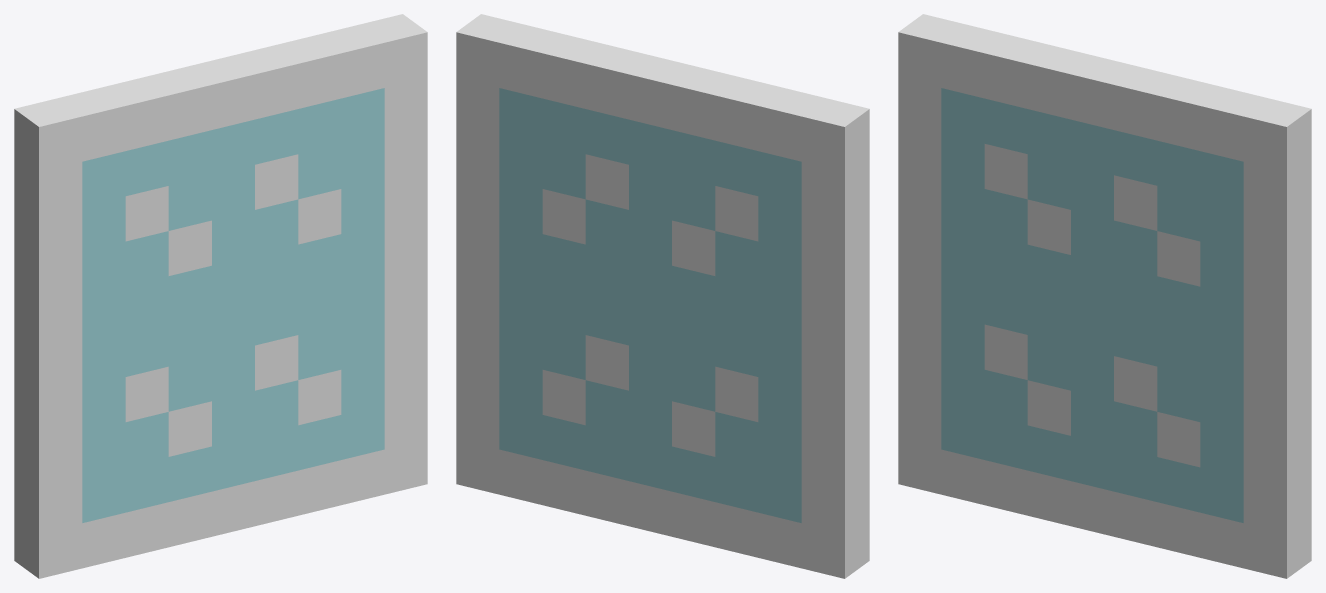
Rendered from mirror.obj.
3 renders of one model, left to right at view 1: azimuth 30°, elevation 25°; view 2: azimuth 150°, elevation 25°; view 3: azimuth 330°, elevation 25°, orthographic.
Size of the model in its own units: 0.9 by 1 by 0.1.
1 material, 1 textured.
